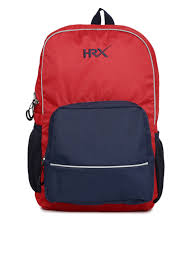backpack: (25, 7, 164, 212)
